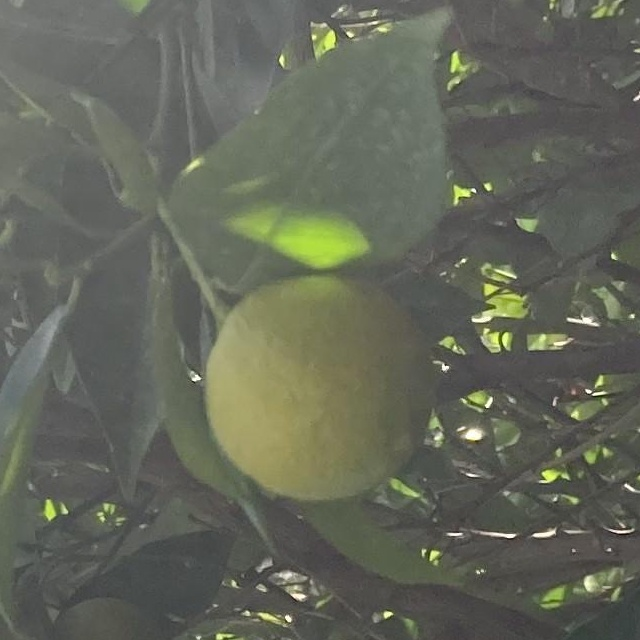orange: (183, 261, 459, 511)
